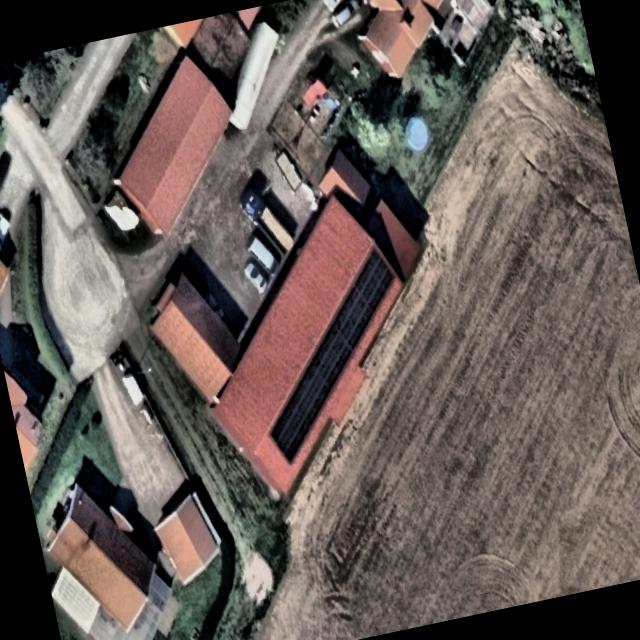roof_pv: (341, 243, 406, 347), (256, 380, 316, 474), (314, 282, 366, 388), (290, 330, 342, 424)
